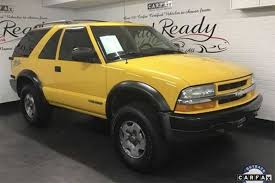car: (8, 18, 266, 172)
